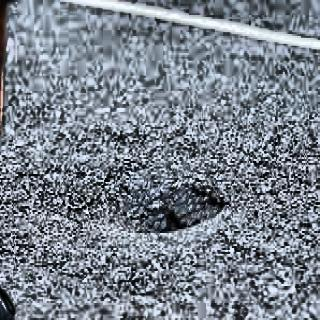pothole: (112, 144, 233, 245)
